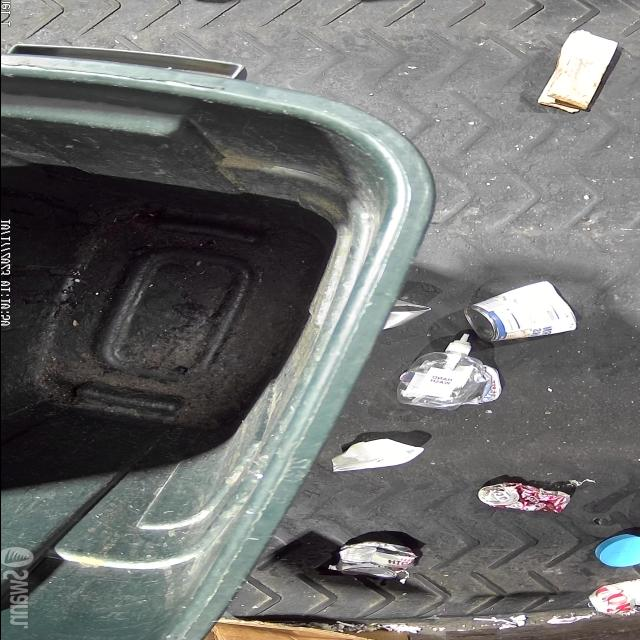can: (463, 281, 575, 341), (477, 482, 571, 514), (336, 542, 418, 578), (584, 579, 640, 618), (386, 298, 430, 328)
